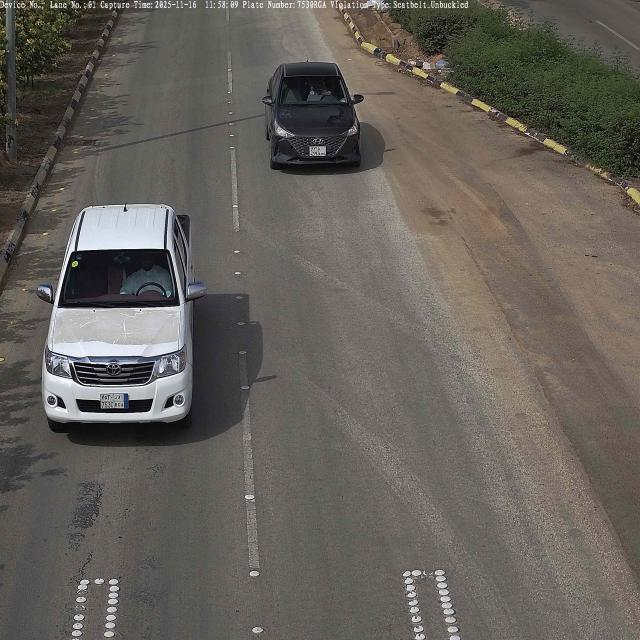person_without_seatbelt: (124, 252, 168, 300)
